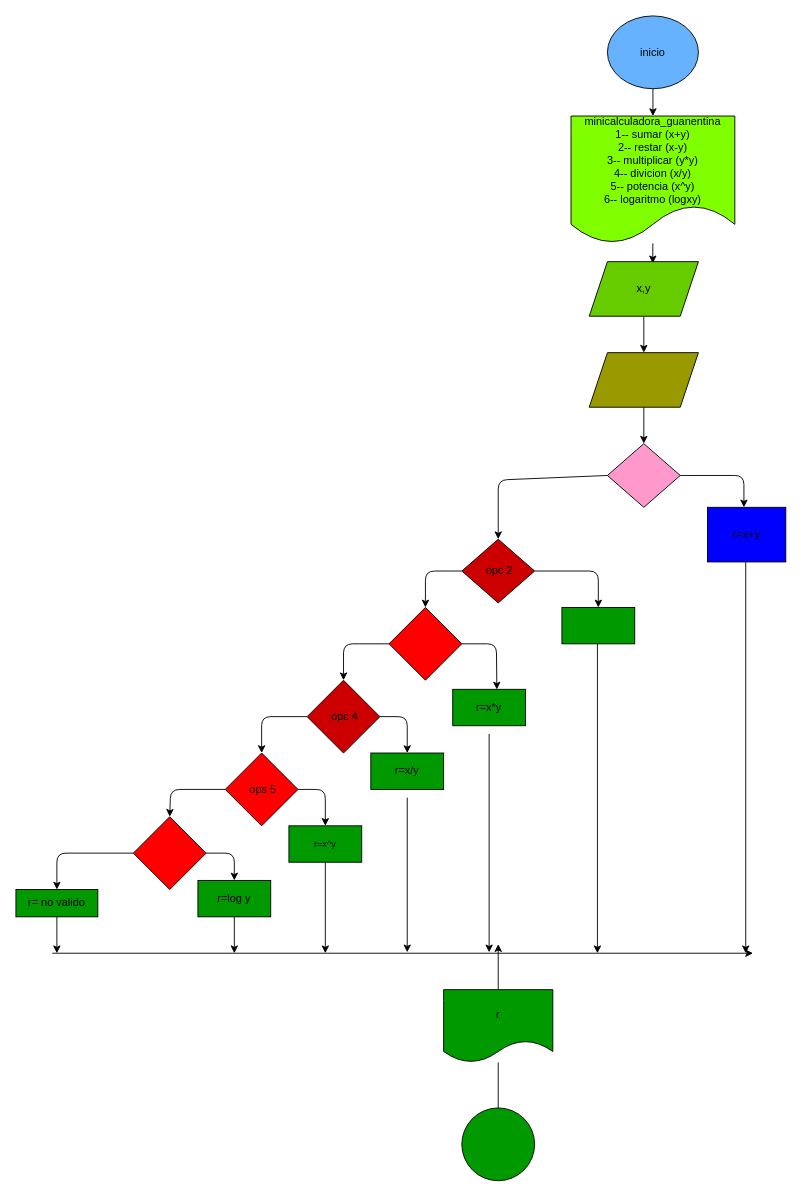
Image size: 802x1197. Some labels were removed from this diagram. The centre of each missing label's shape, as x and y in pixels:
"fin" belongs at [498,1144].
"if opc 1" belongs at [643,475].
"opc" belongs at [643,379].
"opc 3" belongs at [425,643].
"opc 6" belongs at [169,853].
"r=x-y" belongs at [598,625].
